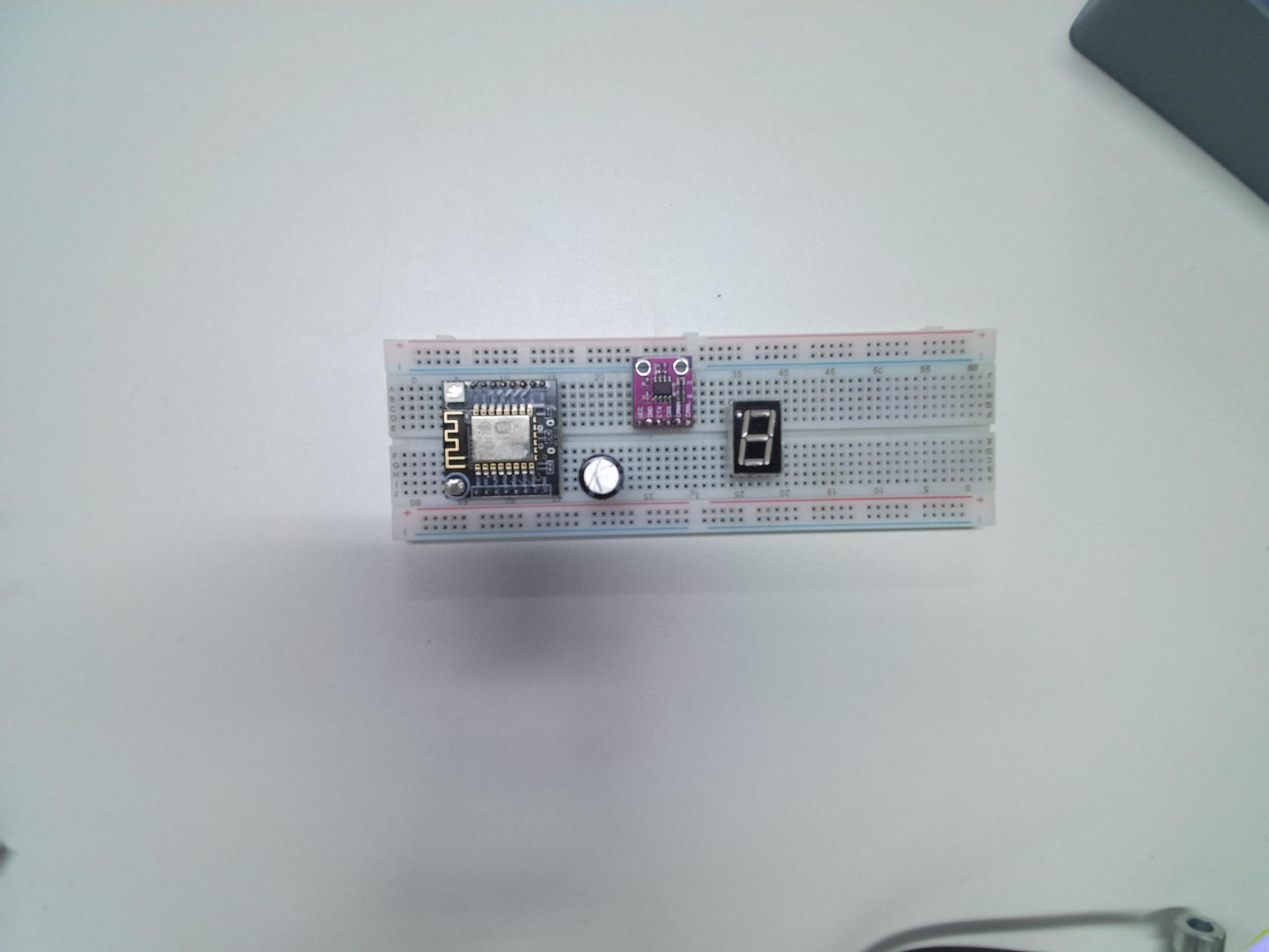base: (384, 325, 1000, 550)
capacitor: (580, 450, 624, 499)
digit-board: (729, 399, 785, 478), (729, 399, 784, 476)
esp: (441, 377, 560, 503)
purple-board: (630, 351, 696, 431)
